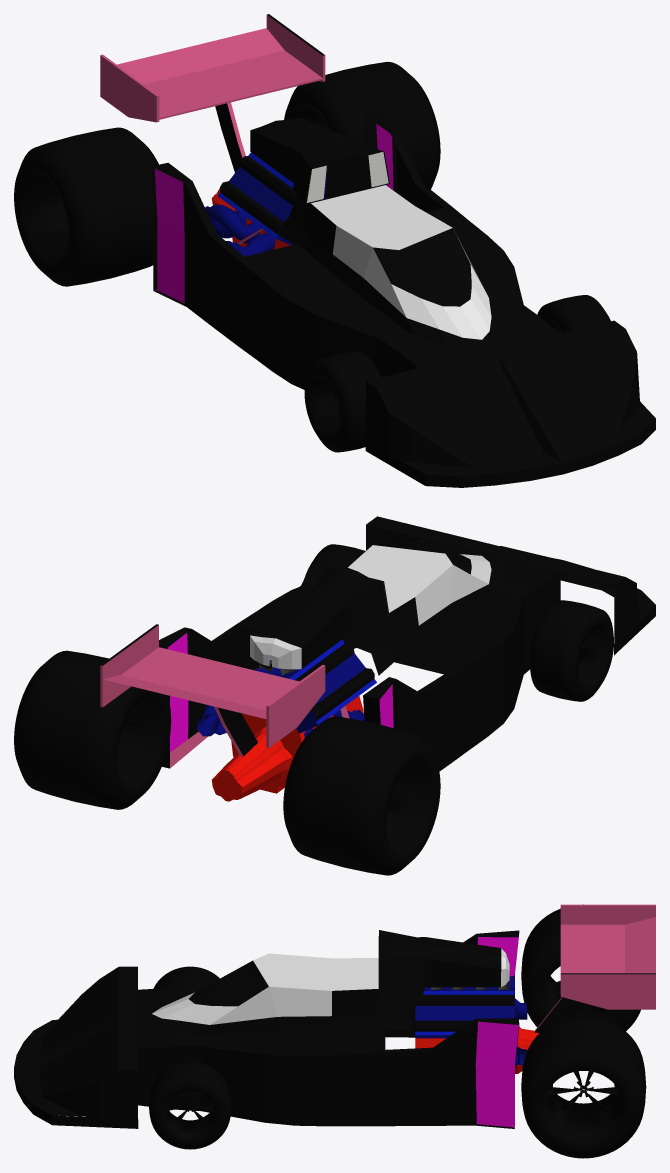
File: formulacar.fbx
3 views of the same model, one above another, from view 1: azimuth 30°, elevation 25°; view 2: azimuth 150°, elevation 25°; view 3: azimuth 270°, elevation 25° (orthographic). The views are drawn at different scales.
Visible parts, largest first — view 1: Torus.001, Torus.002, Torus.003; view 2: Torus.001, Torus.002, Torus.003; view 3: Torus.001, Torus.003, Torus.002.
Boxes of the visible parts, x1,y1,x2,y2 form: Torus.001: [14, 14, 655, 487]; Torus.002: [304, 351, 381, 452]; Torus.003: [537, 295, 610, 333]; Torus.001: [14, 516, 655, 875]; Torus.002: [529, 600, 613, 701]; Torus.003: [304, 544, 365, 578]; Torus.001: [14, 904, 655, 1158]; Torus.003: [149, 1061, 231, 1149]; Torus.002: [153, 966, 219, 988].
Bounding box in the file's own units: 686 × 327 × 1227.
